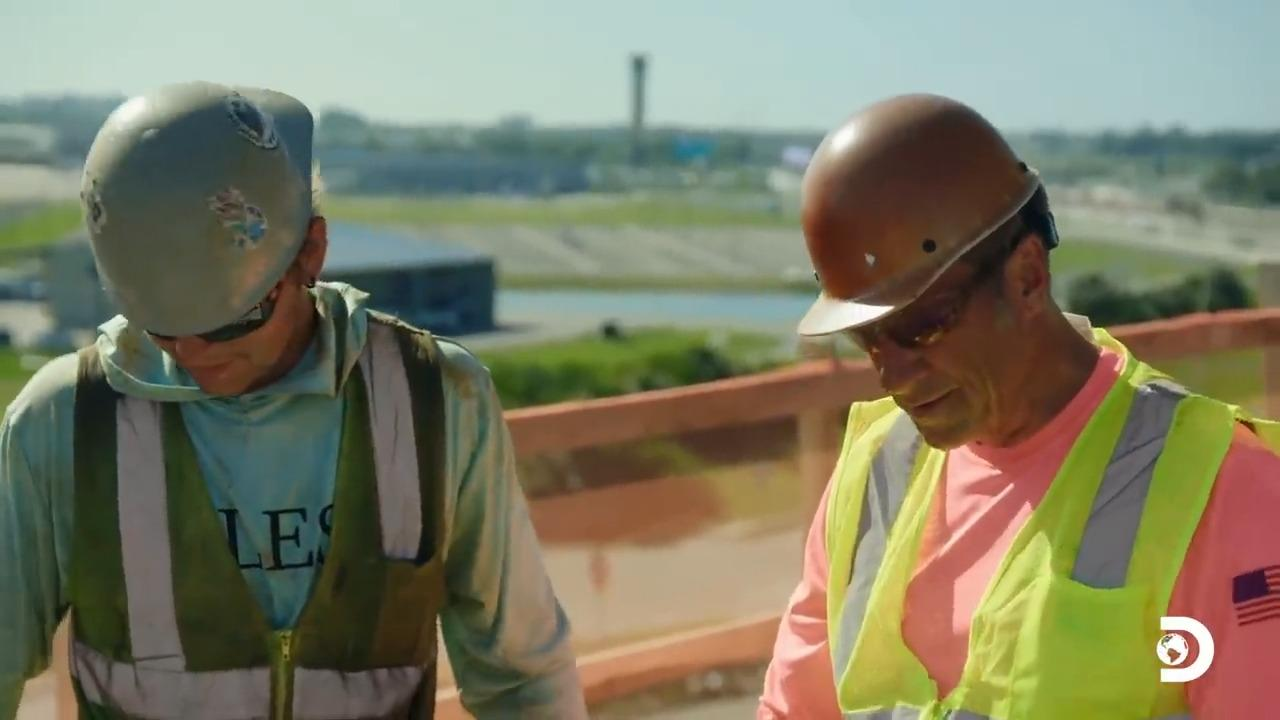Helmet: (795, 91, 1047, 338), (79, 79, 318, 338)
Person: (0, 79, 591, 720), (754, 91, 1279, 719)
Safety Vest: (41, 361, 459, 720), (850, 428, 1247, 720)
